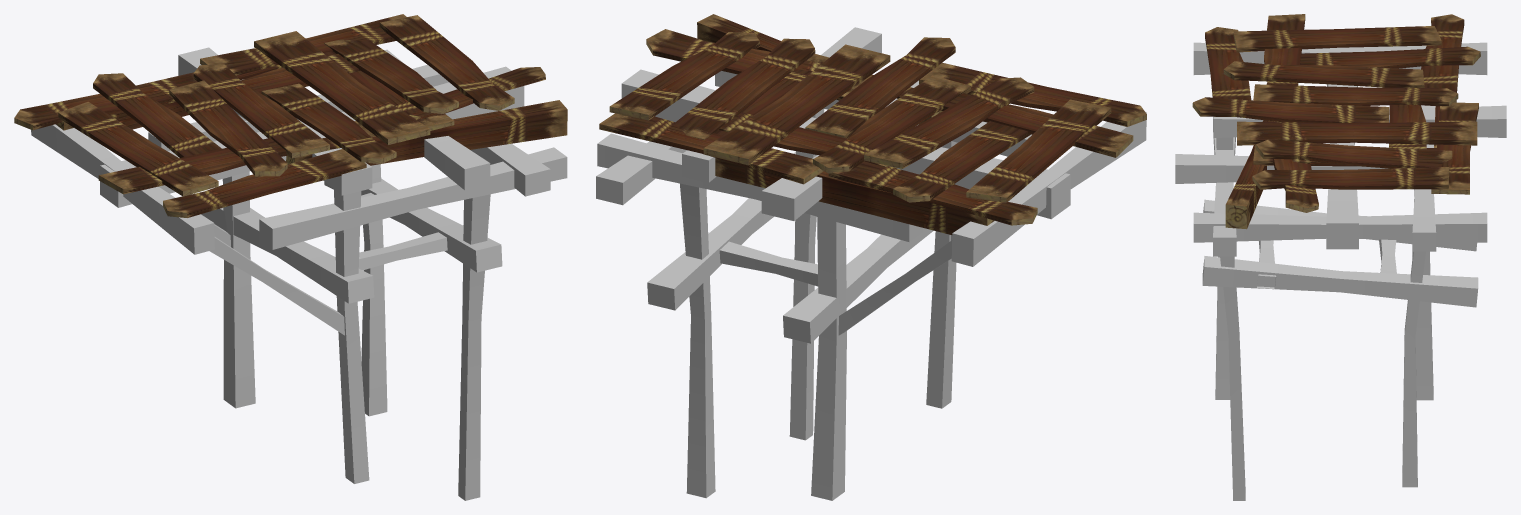
File: environment_common_zhandao_001_c.FBX
The picture shows the model from 3 angles, left to right: view 1: azimuth 30°, elevation 25°; view 2: azimuth 150°, elevation 25°; view 3: azimuth 270°, elevation 25°; orthographic projection. The views are drawn at different scales.
Visible parts, largest first — view 1: environment_common_zhandao_001_c2, environment_common_zhandao_001_c1; view 2: environment_common_zhandao_001_c2, environment_common_zhandao_001_c1; view 3: environment_common_zhandao_001_c2, environment_common_zhandao_001_c1.
Part boxes in pixels (x1=…): environment_common_zhandao_001_c2: x1=14, y1=14, x2=567, y2=217; environment_common_zhandao_001_c1: x1=31, y1=47, x2=567, y2=500; environment_common_zhandao_001_c2: x1=599, y1=14, x2=1146, y2=234; environment_common_zhandao_001_c1: x1=596, y1=27, x2=1146, y2=500; environment_common_zhandao_001_c2: x1=1192, y1=14, x2=1480, y2=229; environment_common_zhandao_001_c1: x1=1175, y1=42, x2=1506, y2=500.
Bounding box in the file's own units: 1442 × 1191 × 1035.
